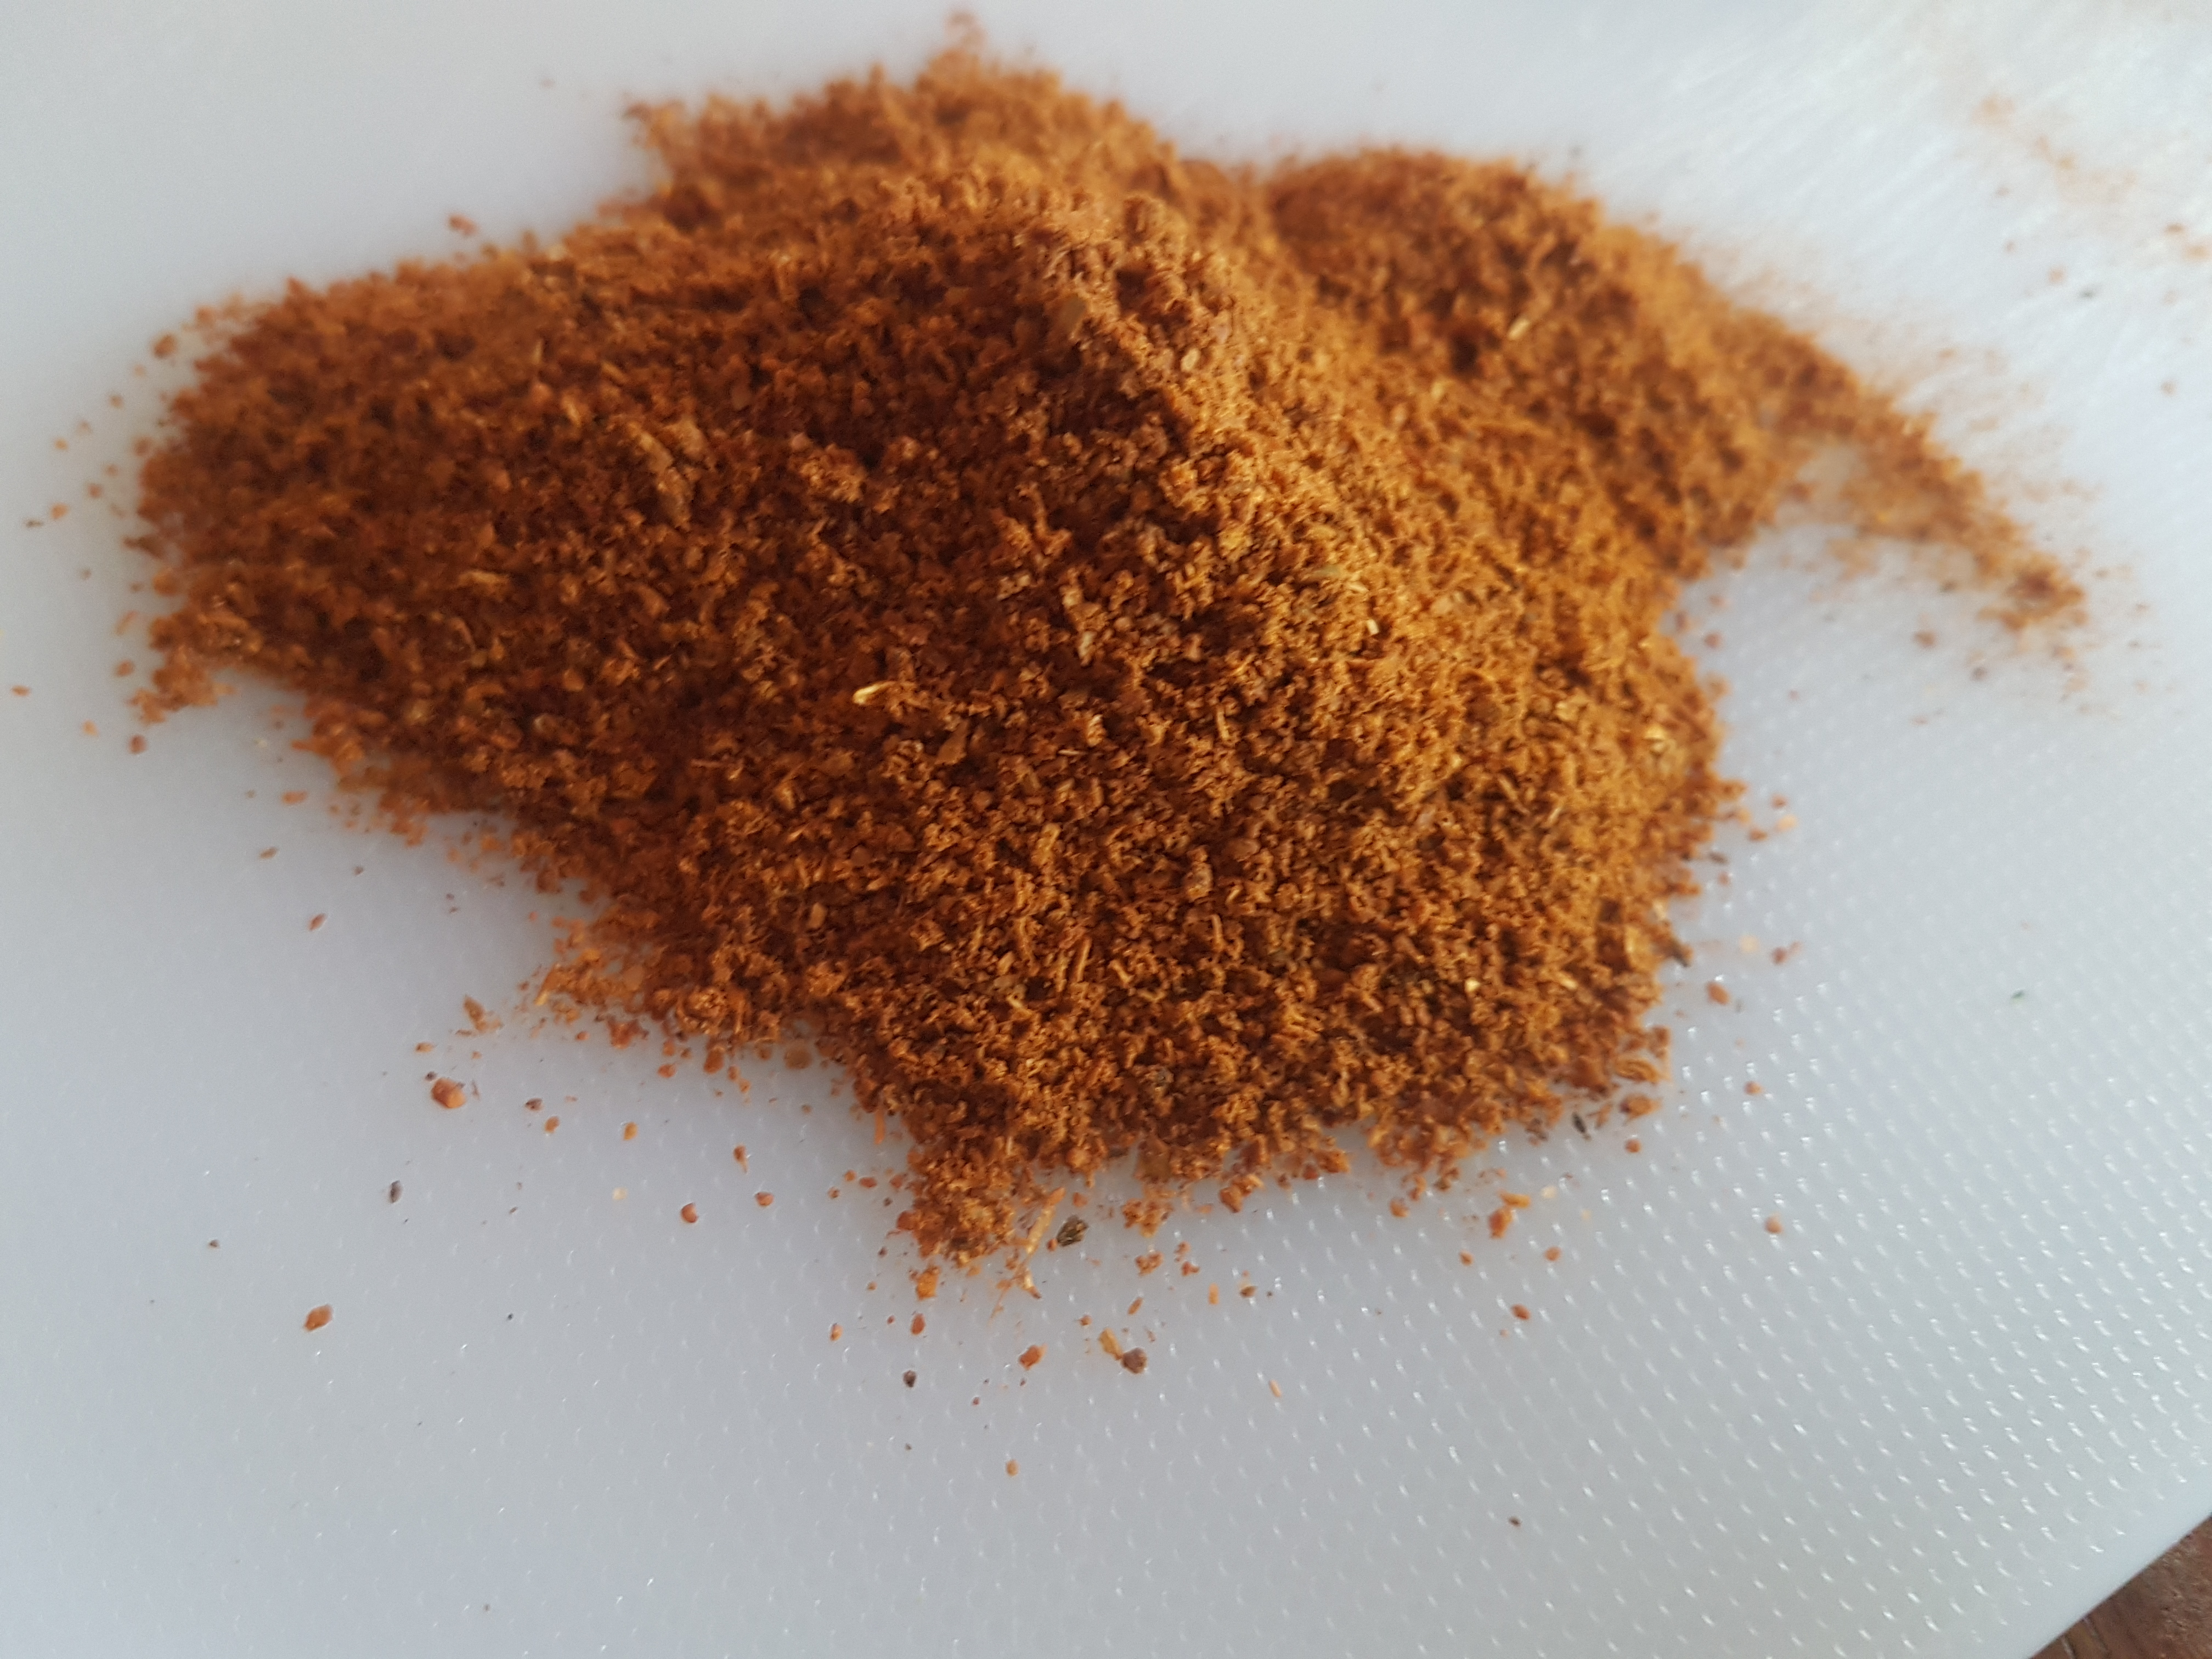Garam masala: (44, 3, 2123, 1359)
